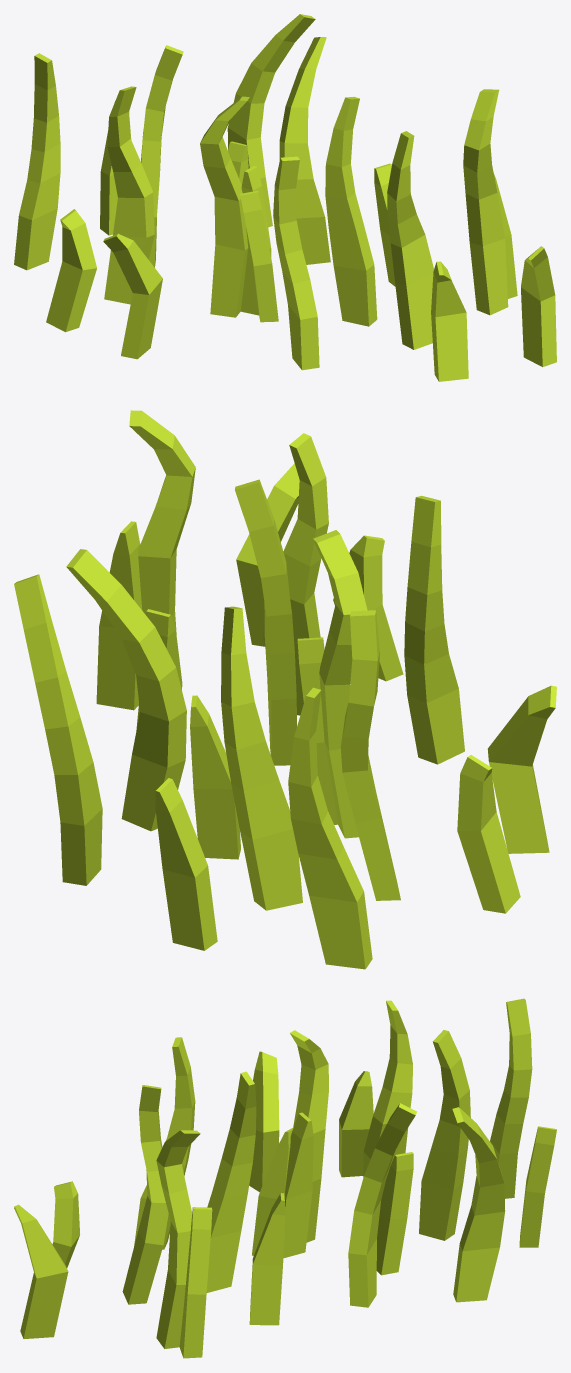
The model's file is Desert_Grass2.fbx.
3 views of the same model, one above another, from view 1: azimuth 30°, elevation 25°; view 2: azimuth 150°, elevation 25°; view 3: azimuth 270°, elevation 25° (orthographic). The views are drawn at different scales.
Parts seen in each view (by area): view 1: Cube.012; view 2: Cube.012; view 3: Cube.012.
Boxes of the visible parts, <box> form: Cube.012: <box>14,14,556,381</box>; Cube.012: <box>14,410,556,969</box>; Cube.012: <box>14,998,556,1358</box>.
Bounding box in the file's own units: 165 × 87.21 × 199.
